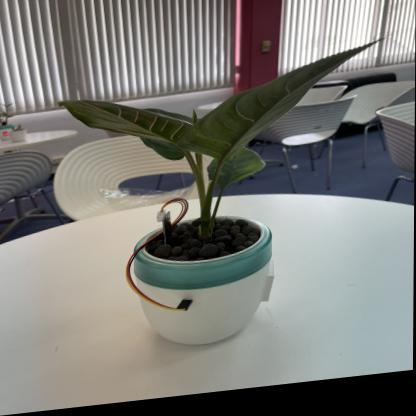Aglaonema: (53, 44, 390, 237)
